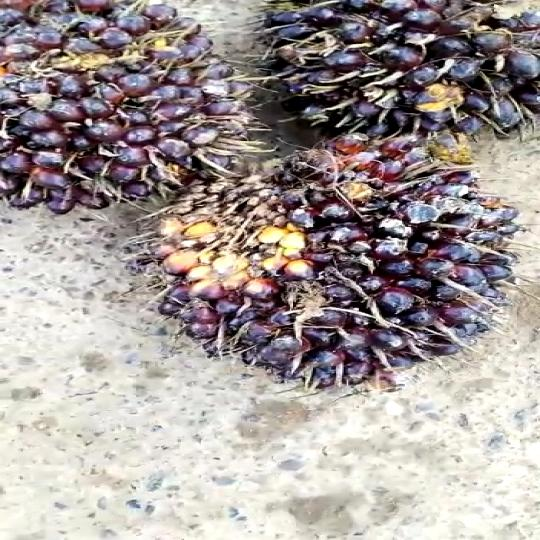kurang masak: (151, 135, 540, 390), (0, 0, 232, 196), (253, 0, 540, 154)
